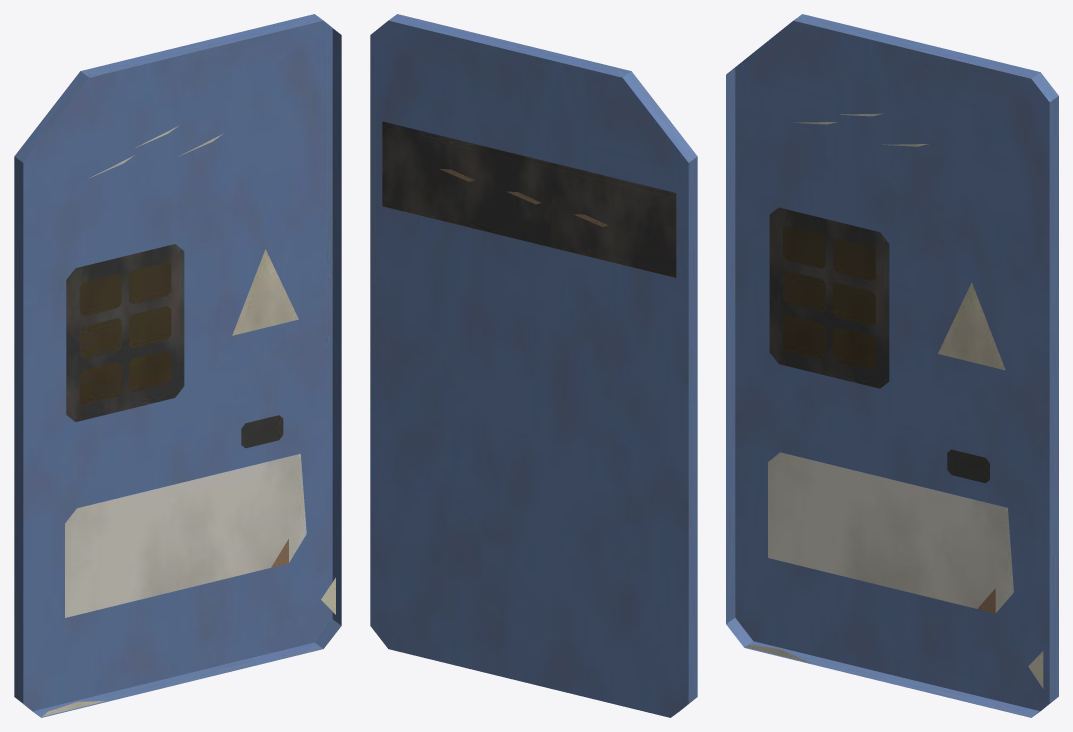
File: P28_colored_key_cards_v2.glb
3 renders of one model, left to right at view 1: azimuth 30°, elevation 25°; view 2: azimuth 150°, elevation 25°; view 3: azimuth 330°, elevation 25°, orthographic.
Visible parts, largest first — view 1: Key_card_body; view 2: Key_card_body; view 3: Key_card_body.
Part boxes in pixels (<box>): Key_card_body: <box>14,14,341,717</box>; Key_card_body: <box>370,14,697,717</box>; Key_card_body: <box>726,14,1058,717</box>.
Size of the model in its own units: 0.053 by 0.1 by 0.0028.
7 materials, 7 textured.
